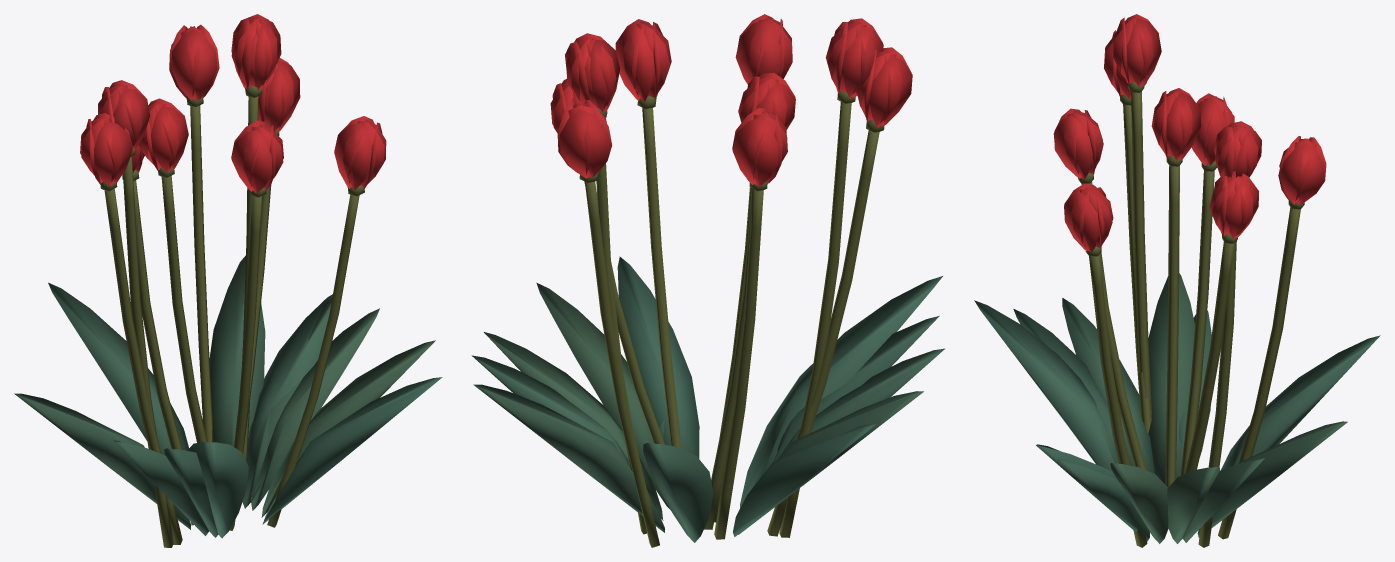
Rendered from potfill_tulips_red.glb.
3 views of the same model, side by side, from view 1: azimuth 30°, elevation 25°; view 2: azimuth 150°, elevation 25°; view 3: azimuth 270°, elevation 25° (orthographic). The views are drawn at different scales.
Visible parts, largest first — view 1: Sammel Pflanze, Sammel Putz; view 2: Sammel Pflanze, Sammel Putz; view 3: Sammel Pflanze, Sammel Putz.
Part boxes in pixels (left/top/right/bottom): Sammel Pflanze: left=14, top=14, right=442, bottom=538; Sammel Putz: left=100, top=85, right=364, bottom=547; Sammel Pflanze: left=471, top=14, right=945, bottom=542; Sammel Putz: left=579, top=91, right=884, bottom=547; Sammel Pflanze: left=974, top=14, right=1380, bottom=543; Sammel Putz: left=1078, top=82, right=1304, bottom=547.
Size of the model in its own units: 0.3529 by 0.4183 by 0.3371.
